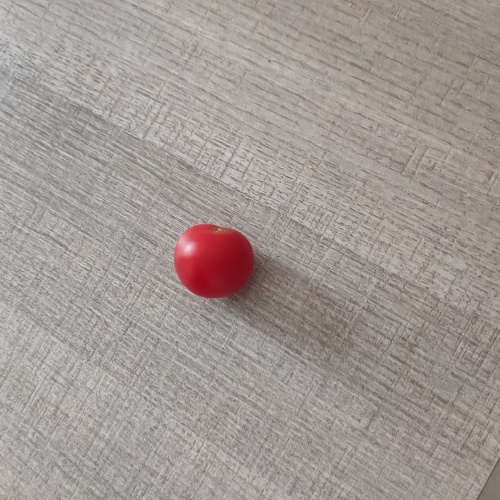pomodoro: (172, 223, 256, 301)
